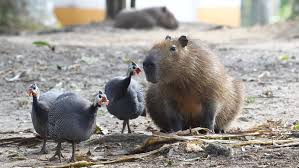capivara: (143, 35, 241, 136), (113, 5, 179, 31)
